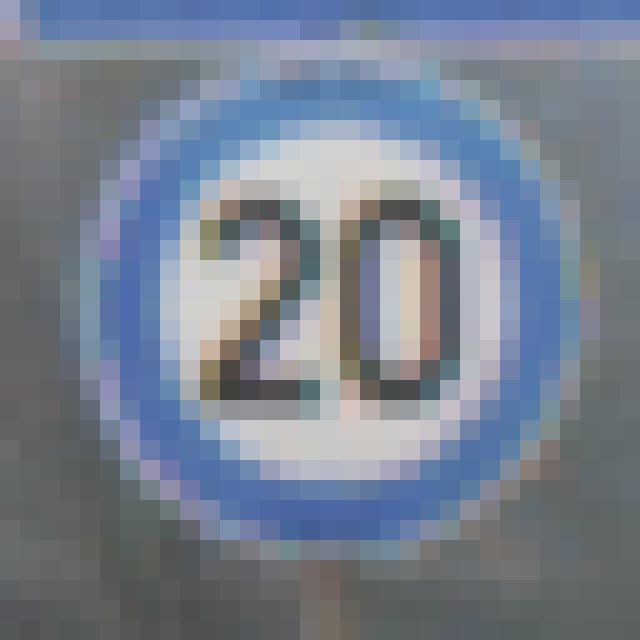SPEED LIMIT 20: (79, 57, 585, 560)
